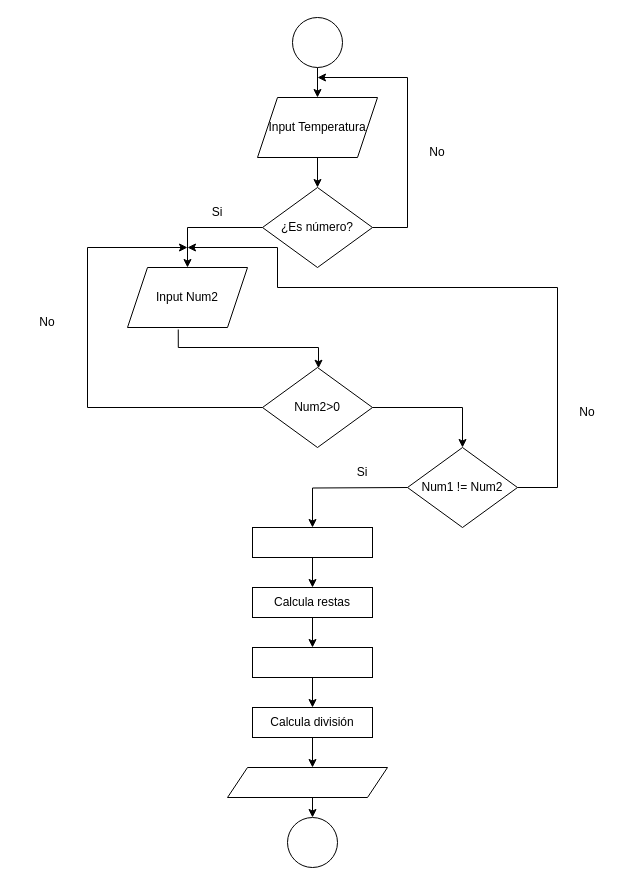
The diagram is 634 pixels wide and 885 high, and some of its shapes have lost their labels. The centre of each missing label's shape, as x and y in pixels:
"Calcula multiplicación" belongs at [312,662].
"Calcula suma" belongs at [312,542].
"Imprime resultados" belongs at [307,782].
